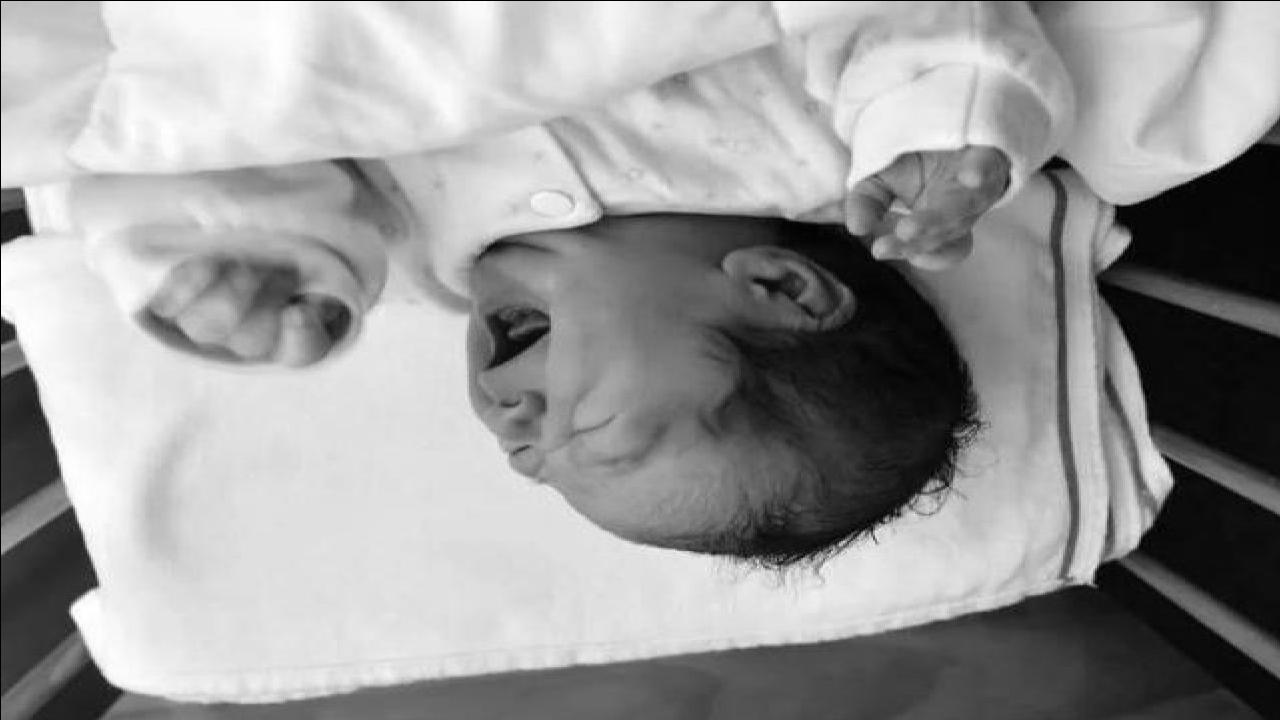hand: (834, 146, 1014, 270), (148, 252, 332, 368)
